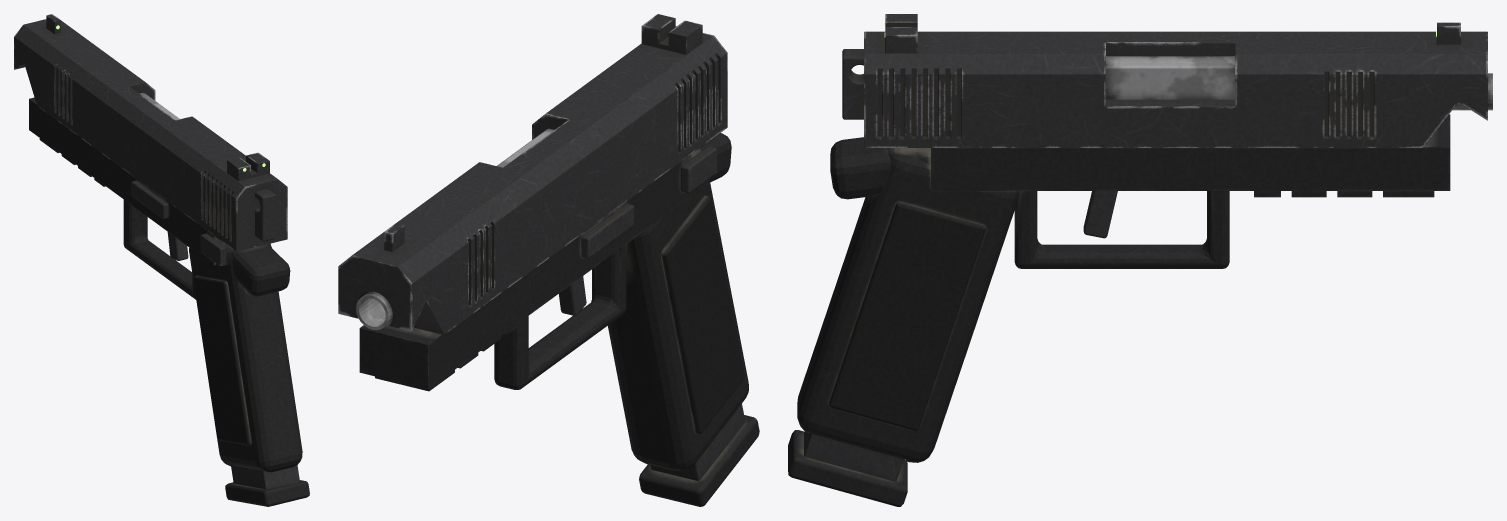
File: arme_pistolet.gltf
3 views of the same model, side by side, from view 1: azimuth 30°, elevation 25°; view 2: azimuth 150°, elevation 25°; view 3: azimuth 270°, elevation 25° (orthographic). The views are drawn at different scales.
Parts seen in each view (by area): view 1: Carcasse, Glissiere, Chargeur, Chien, Detente; view 2: Carcasse, Glissiere, Chargeur, Detente; view 3: Carcasse, Glissiere, Chargeur, Chien, Detente.
Boxes of the visible parts, bbox=[...] form: Carcasse: bbox=[29, 92, 302, 472]; Glissiere: bbox=[14, 14, 287, 251]; Chargeur: bbox=[225, 465, 309, 506]; Chien: bbox=[255, 189, 275, 241]; Detente: bbox=[167, 232, 188, 260]; Carcasse: bbox=[356, 128, 748, 470]; Glissiere: bbox=[338, 14, 727, 334]; Chargeur: bbox=[619, 248, 759, 506]; Detente: bbox=[559, 276, 586, 315]; Carcasse: bbox=[797, 56, 1492, 462]; Glissiere: bbox=[864, 14, 1487, 147]; Chargeur: bbox=[788, 430, 907, 506]; Chien: bbox=[842, 49, 863, 119]; Detente: bbox=[1083, 191, 1117, 238].
Bounding box in the file's own units: 0.034 × 0.1923 × 0.262.
2 materials, 1 textured.
